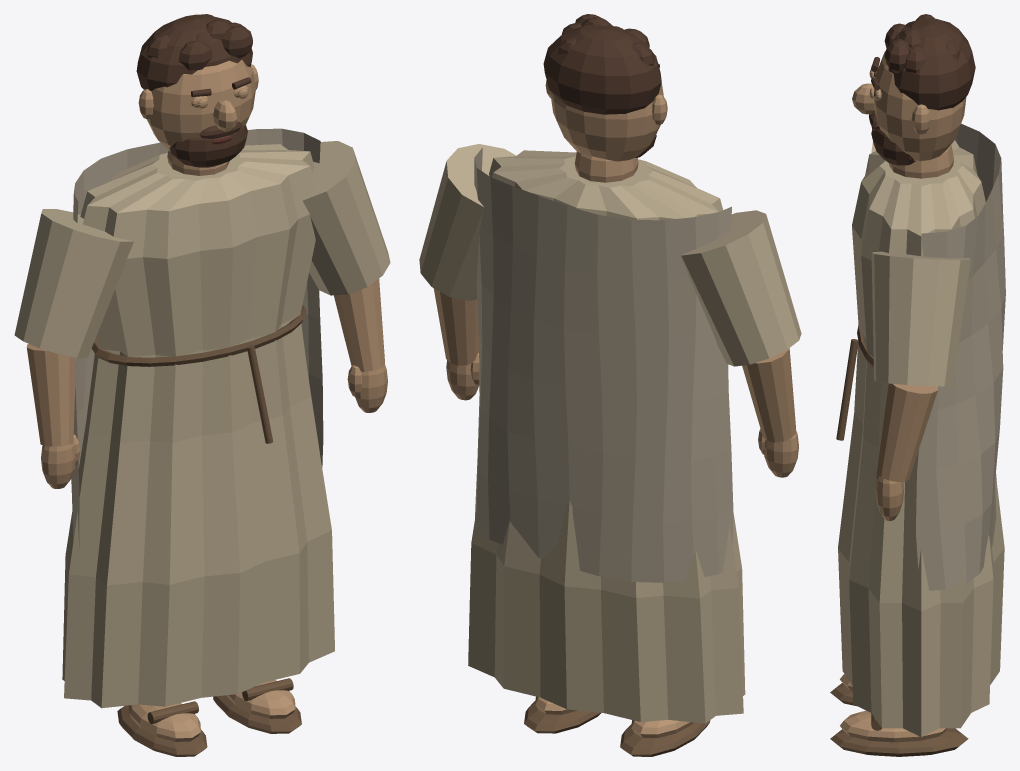
The model's file is listener-broad.glb.
The picture shows the model from 3 angles, left to right: view 1: azimuth 30°, elevation 25°; view 2: azimuth 150°, elevation 25°; view 3: azimuth 270°, elevation 25°; orthographic projection.
Visible parts, largest first — view 1: listener-broad_torso_mesh, listener-broad_head_mesh, listener-broad_arm_left_mesh, listener-broad_arm_right_mesh, listener-broad_forearm_left_mesh, listener-broad_forearm_right_mesh, listener-broad_foot_left_mesh, listener-broad_foot_right_mesh, listener-broad_jaw_mesh; view 2: listener-broad_torso_mesh, listener-broad_head_mesh, listener-broad_arm_left_mesh, listener-broad_arm_right_mesh, listener-broad_forearm_left_mesh, listener-broad_forearm_right_mesh, listener-broad_foot_left_mesh, listener-broad_foot_right_mesh; view 3: listener-broad_torso_mesh, listener-broad_head_mesh, listener-broad_arm_right_mesh, listener-broad_forearm_right_mesh, listener-broad_foot_right_mesh, listener-broad_jaw_mesh, listener-broad_foot_left_mesh.
Part boxes in pixels (x1,y1,x2,y2): listener-broad_torso_mesh: (62, 128, 334, 708); listener-broad_head_mesh: (136, 14, 258, 151); listener-broad_arm_left_mesh: (14, 209, 133, 357); listener-broad_arm_right_mesh: (302, 141, 390, 295); listener-broad_forearm_left_mesh: (26, 344, 80, 488); listener-broad_forearm_right_mesh: (334, 278, 387, 412); listener-broad_foot_left_mesh: (117, 701, 207, 756); listener-broad_foot_right_mesh: (213, 678, 301, 733); listener-broad_jaw_mesh: (169, 125, 247, 167); listener-broad_torso_mesh: (468, 147, 745, 723); listener-broad_head_mesh: (543, 14, 667, 161); listener-broad_arm_left_mesh: (680, 210, 801, 366); listener-broad_arm_right_mesh: (419, 144, 516, 300); listener-broad_forearm_left_mesh: (742, 348, 798, 477); listener-broad_forearm_right_mesh: (433, 288, 479, 400); listener-broad_foot_left_mesh: (620, 720, 710, 756); listener-broad_foot_right_mesh: (524, 696, 600, 733); listener-broad_torso_mesh: (836, 123, 1005, 737); listener-broad_head_mesh: (852, 14, 975, 161); listener-broad_arm_right_mesh: (871, 251, 970, 386); listener-broad_forearm_right_mesh: (875, 383, 937, 520); listener-broad_foot_right_mesh: (830, 710, 968, 756); listener-broad_jaw_mesh: (871, 128, 915, 165); listener-broad_foot_left_mesh: (830, 674, 856, 706).
Bounding box in the file's own units: 0.9649 × 1.77 × 0.4009.
